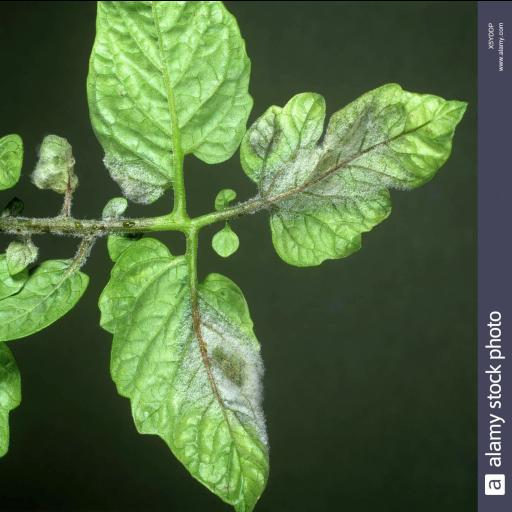disease_tomato: (99, 235, 270, 512), (238, 82, 468, 268), (86, 0, 252, 204)
